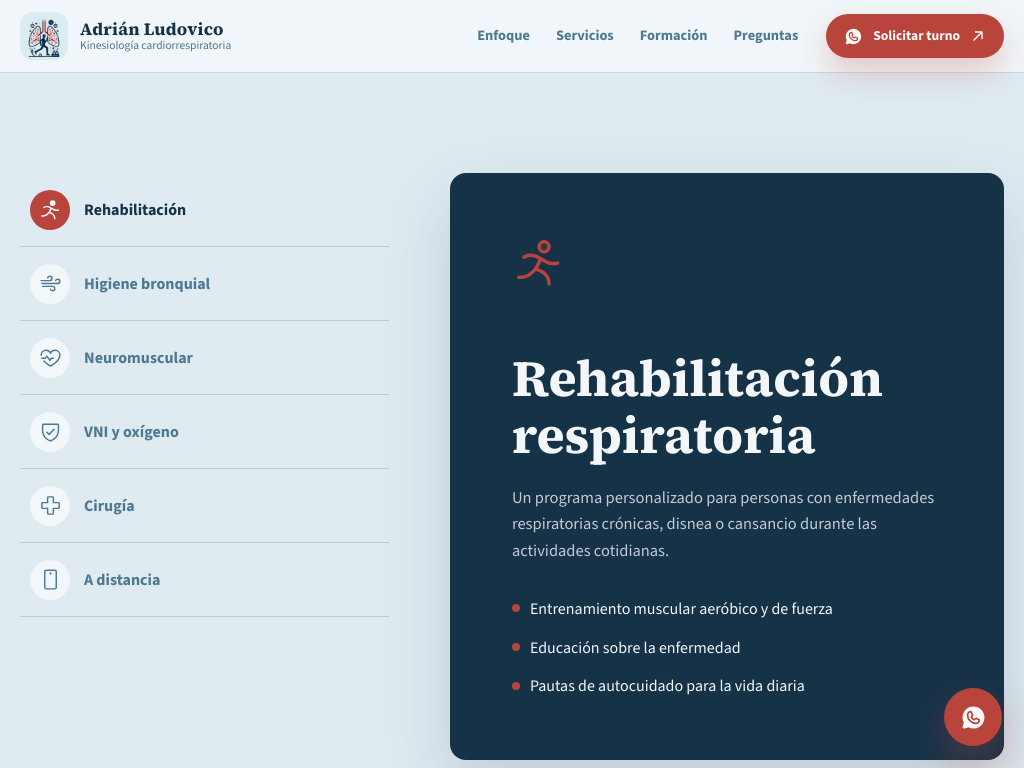
Test case: KinesiologyLanding › permite explorar los seis servicios y actualiza el detalle seleccionado
The image size is (1024, 768).
(page scrolled)
Click the button "VNI y oxígeno": (50, 432) left=20, top=395, right=389, bottom=469
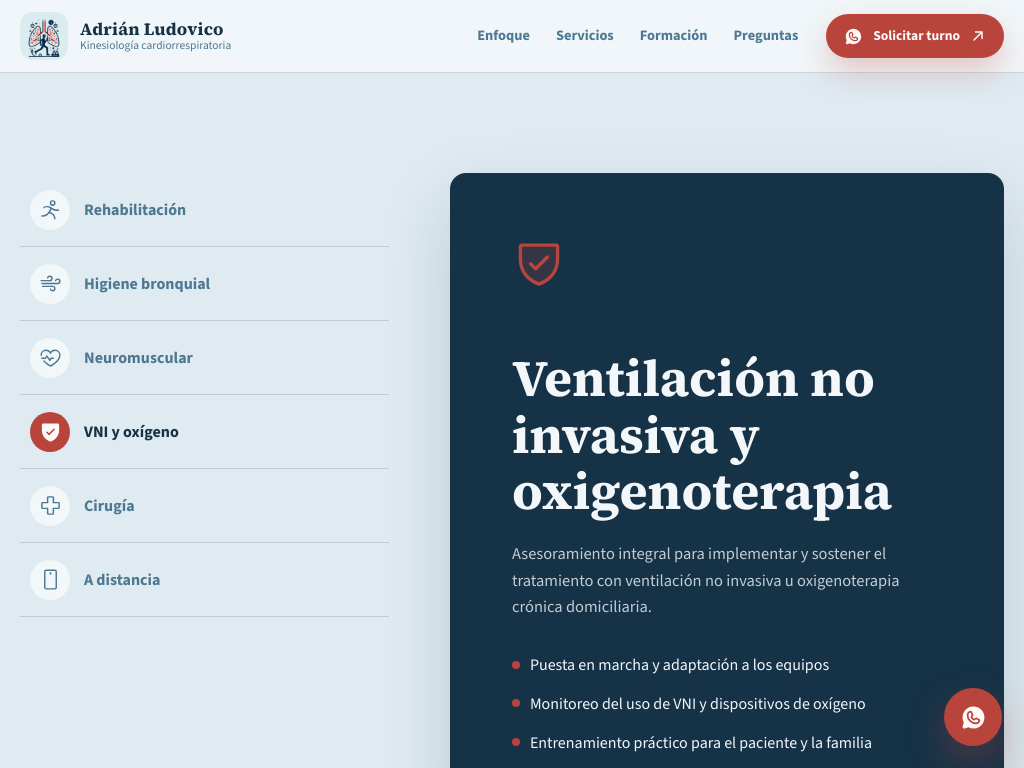
Expected: the heading "Ventilación no invasiva y oxigenoterapia" is shown, left=512, top=350, right=890, bottom=519
Expected: the list item "Puesta en marcha y adaptación a los equipos" is shown, left=530, top=654, right=829, bottom=675
